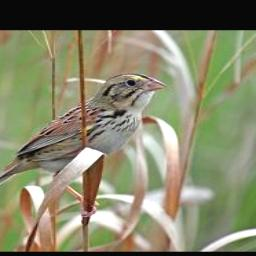Sparrow: (0, 72, 171, 217)
